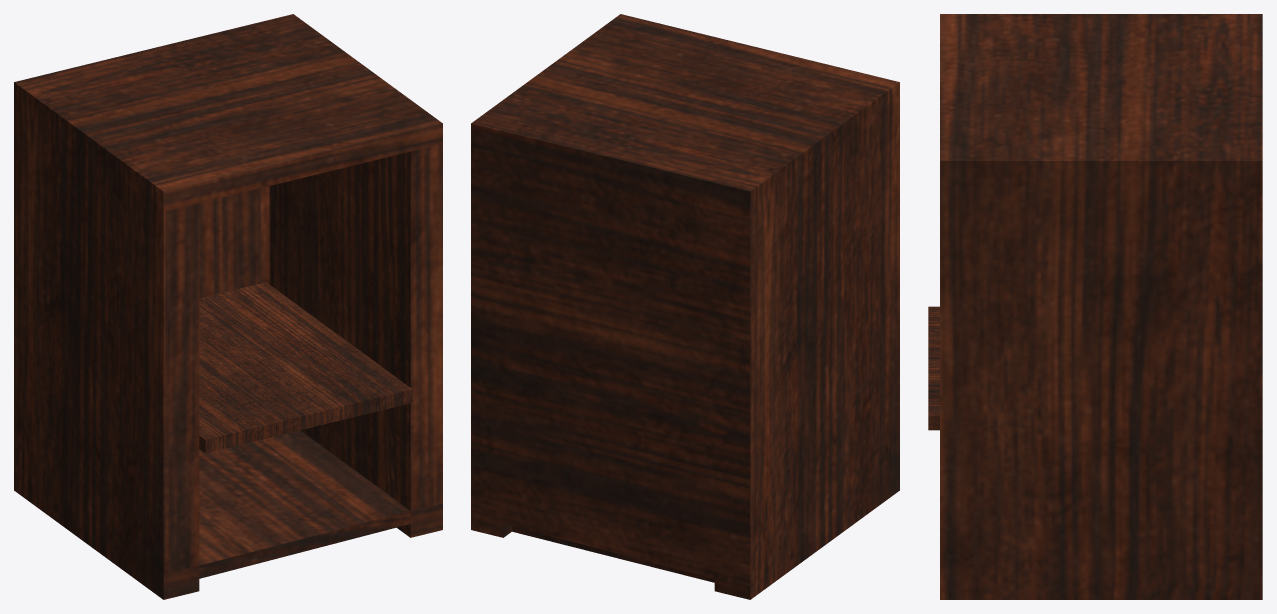
Rendered from schrank.gltf.
The picture shows the model from 3 angles, left to right: view 1: azimuth 30°, elevation 25°; view 2: azimuth 150°, elevation 25°; view 3: azimuth 270°, elevation 25°; orthographic projection. The views are drawn at different scales.
Visible parts, largest first — view 1: leftSide, regal; view 2: leftSide; view 3: leftSide, regal.
Part boxes in pixels (x1,y1,x2,y2): leftSide: [14, 14, 442, 599]; regal: [199, 282, 412, 453]; leftSide: [471, 14, 899, 599]; leftSide: [940, 14, 1262, 599]; regal: [928, 306, 939, 430].
Bounding box in the file's own units: 4.31 × 6.03 × 4.15.
1 material, 1 textured.
